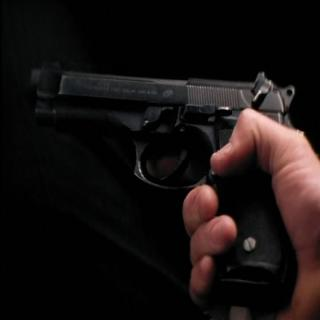gun: (22, 52, 307, 302)
